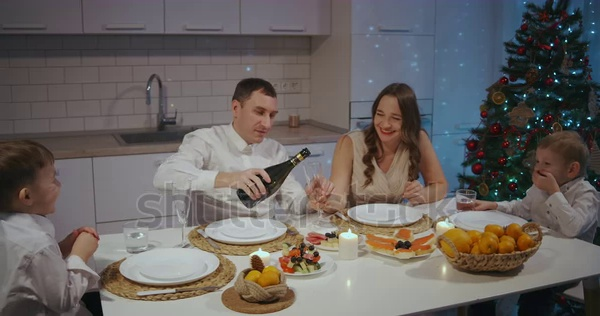No Mask: (6, 141, 74, 222), (521, 132, 591, 188), (234, 81, 282, 147), (374, 85, 414, 147)
